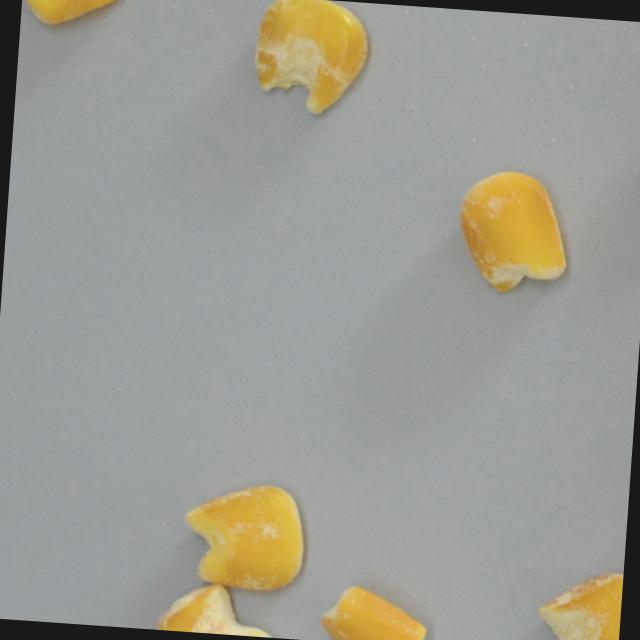no_canjicado: (20, 0, 127, 33)
pelicula: (452, 165, 573, 298), (177, 478, 308, 592), (251, 0, 374, 119), (155, 579, 279, 638), (534, 566, 623, 640), (322, 595, 426, 640)
